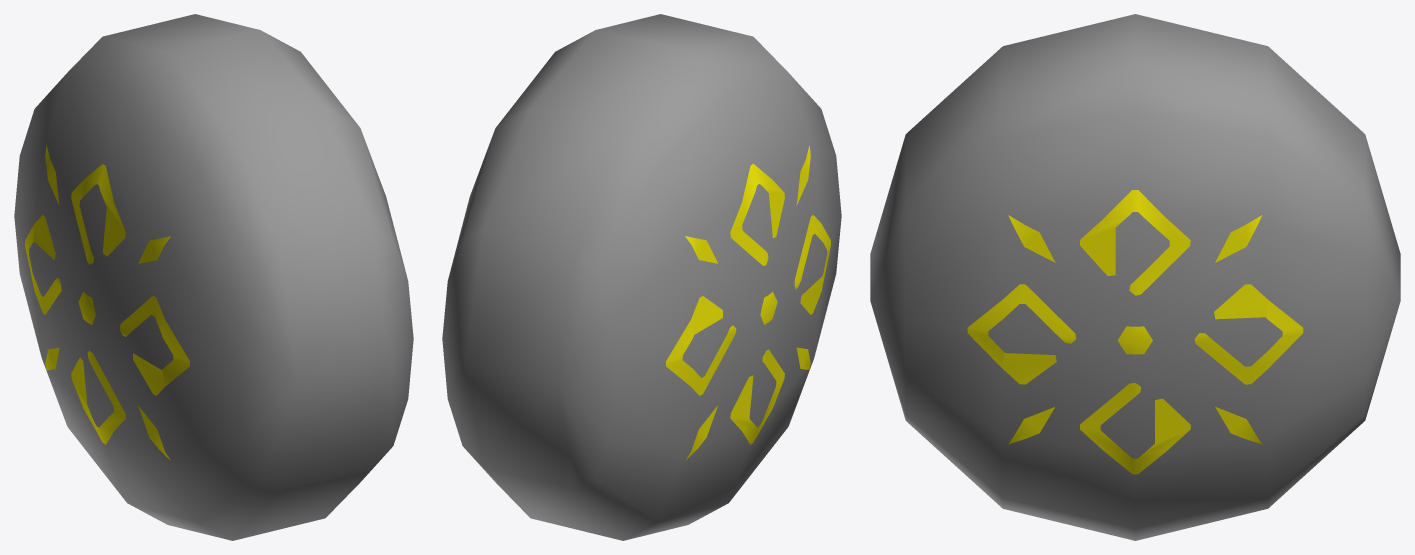
Rendered from Enid_Bullet.FBX.
3 views of the same model, side by side, from view 1: azimuth 30°, elevation 25°; view 2: azimuth 150°, elevation 25°; view 3: azimuth 270°, elevation 25° (orthographic).
Visible parts, largest first — view 1: Enid_Bullet; view 2: Enid_Bullet; view 3: Enid_Bullet.
Boxes of the visible parts, x1,y1,x2,y2 form: Enid_Bullet: (14, 14, 413, 540); Enid_Bullet: (442, 14, 841, 540); Enid_Bullet: (870, 14, 1400, 540).
Size of the model in its own units: 5.01 by 8.81 by 8.81.
